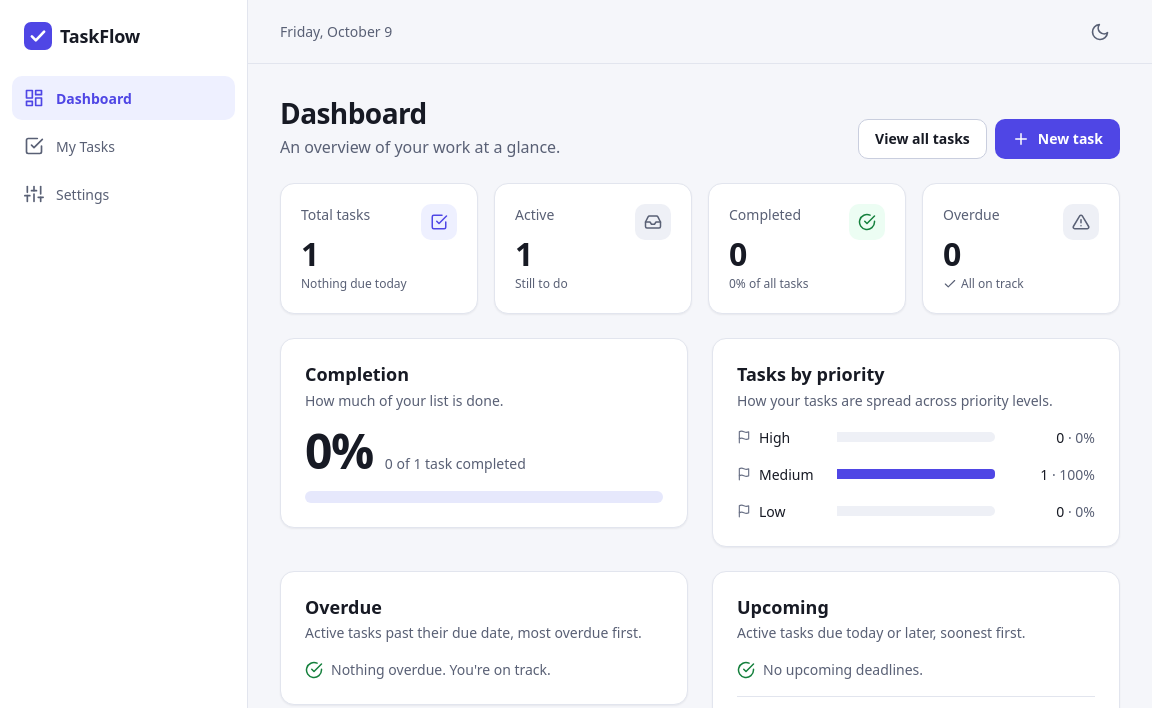
no false success after failed writes › warns from the dashboard too
Click the button "New task" at point(1057, 139), box top-left (995, 119), bottom-right (1120, 159)
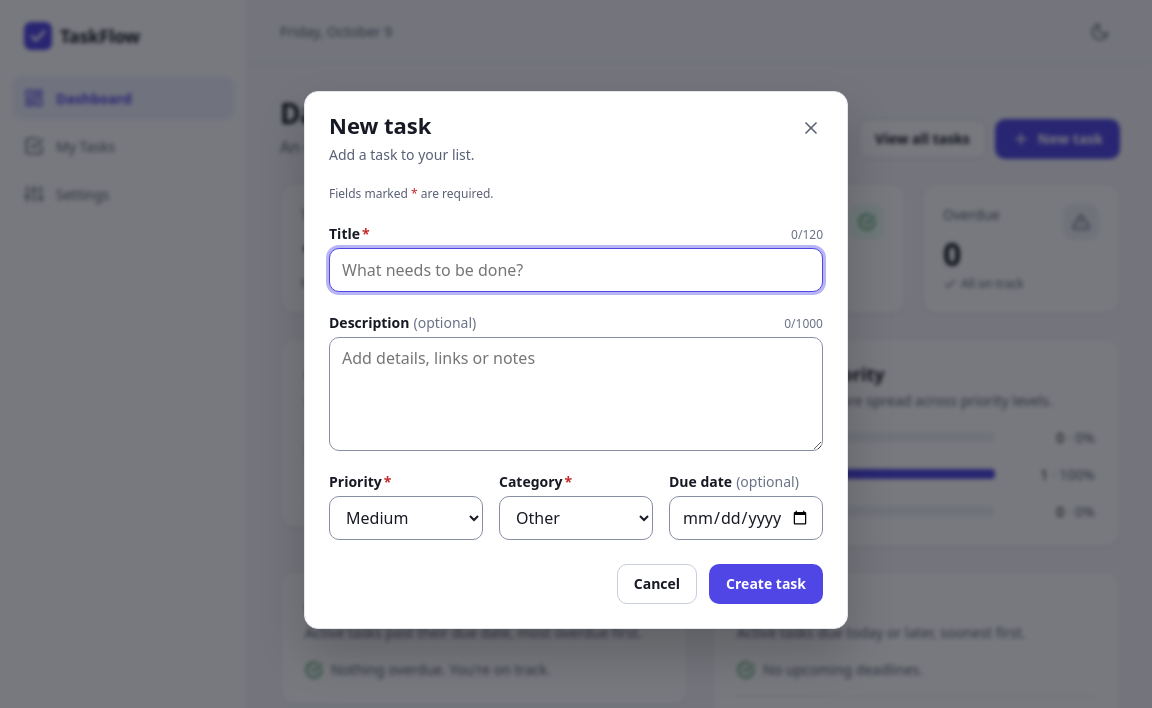
Type "From dashboard" into the field labelled "Title*" at point(576, 270), box top-left (329, 248), bottom-right (823, 292)
Then press Enter
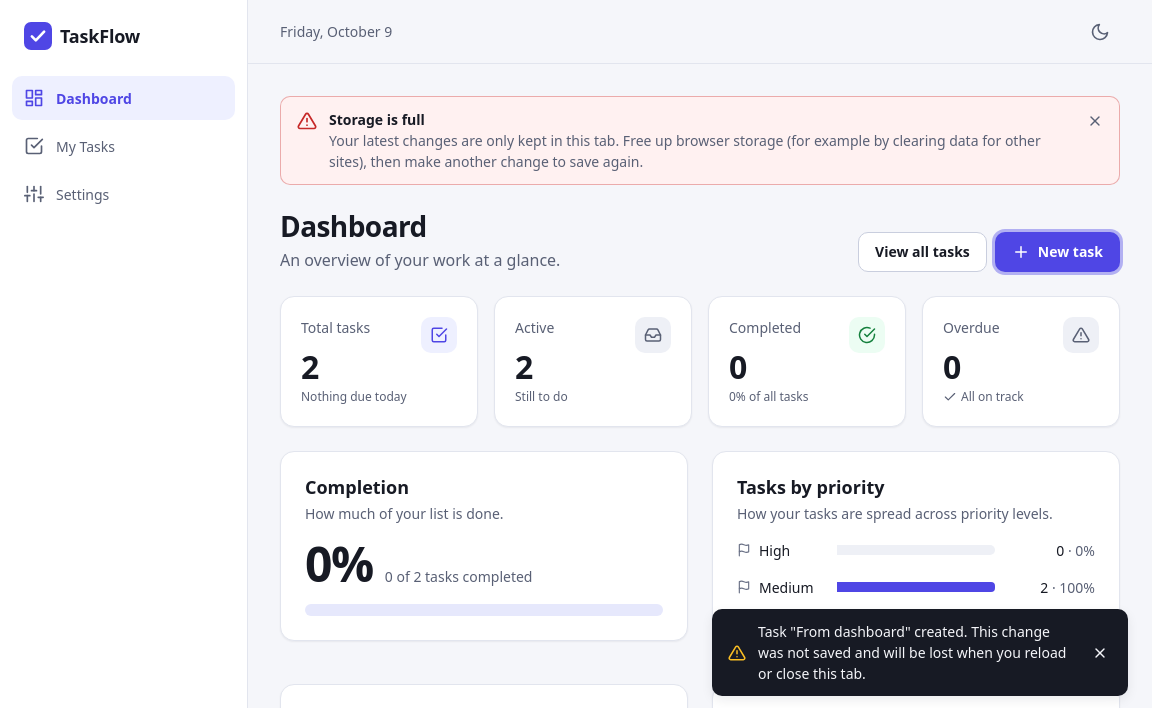
Now the message named "Notifications" shows "This change was not saved and will be lost when you reload or close this tab.", box top-left (758, 622), bottom-right (1066, 683)
